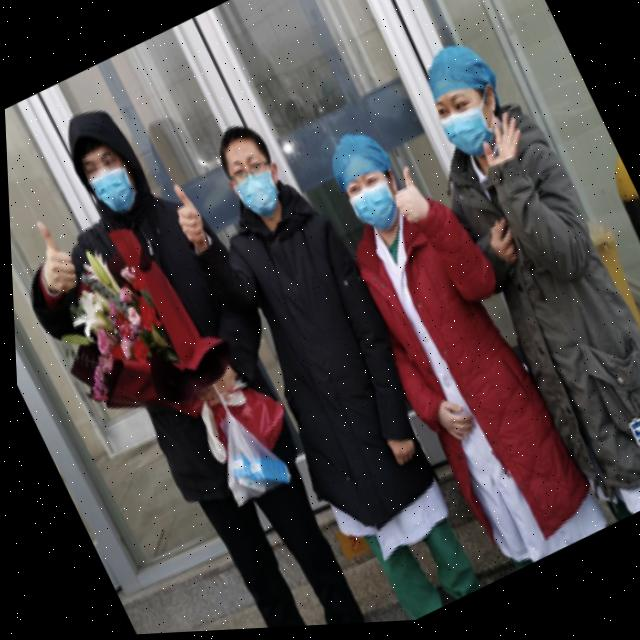Mask: (426, 78, 518, 171), (334, 160, 412, 246), (216, 149, 291, 225), (76, 146, 144, 222)
